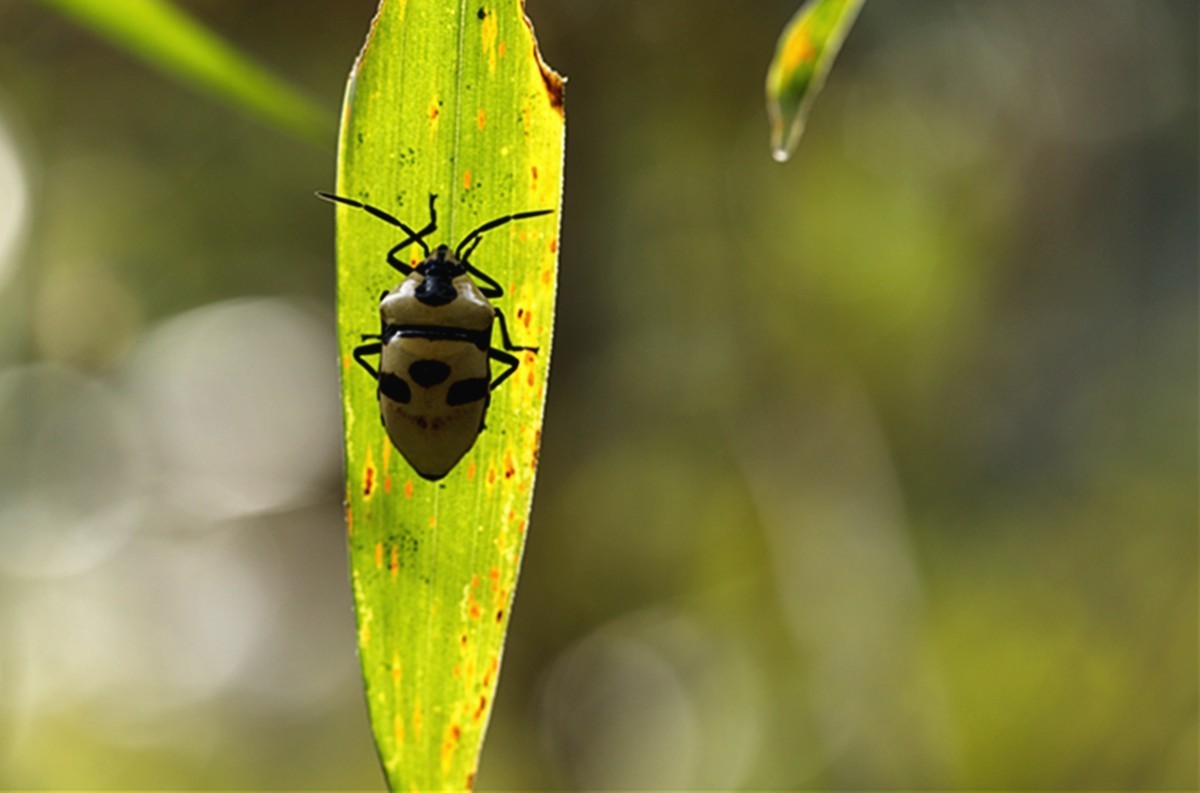chunchong: (334, 200, 538, 486)
